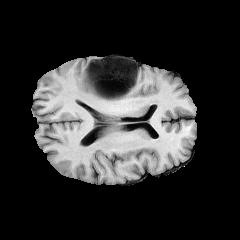glioma: (80, 56, 138, 104)
